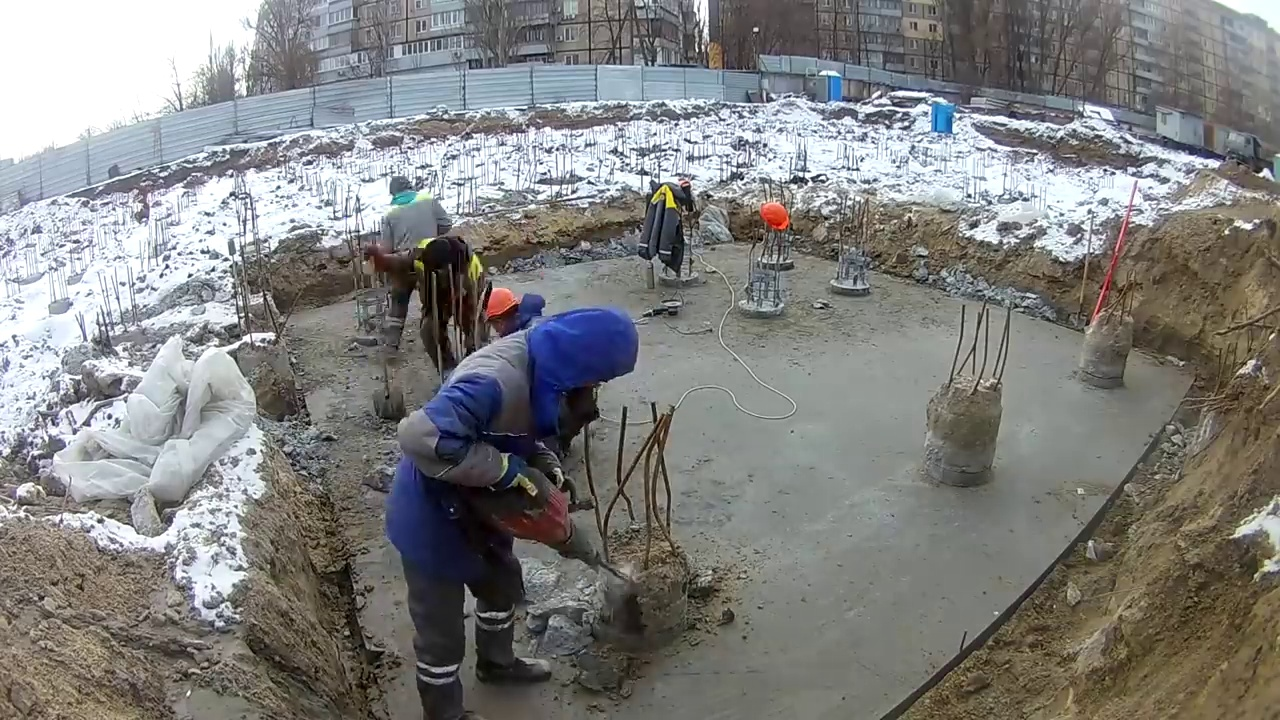helmet: (760, 203, 789, 230)
helmet-off: (535, 306, 645, 392), (389, 177, 415, 205)
helmet-on: (481, 287, 523, 337)
person: (383, 303, 642, 720), (378, 177, 457, 365)
